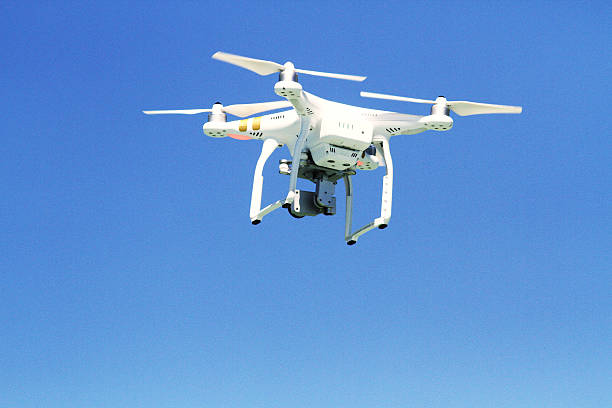Drone: (139, 48, 526, 256)
